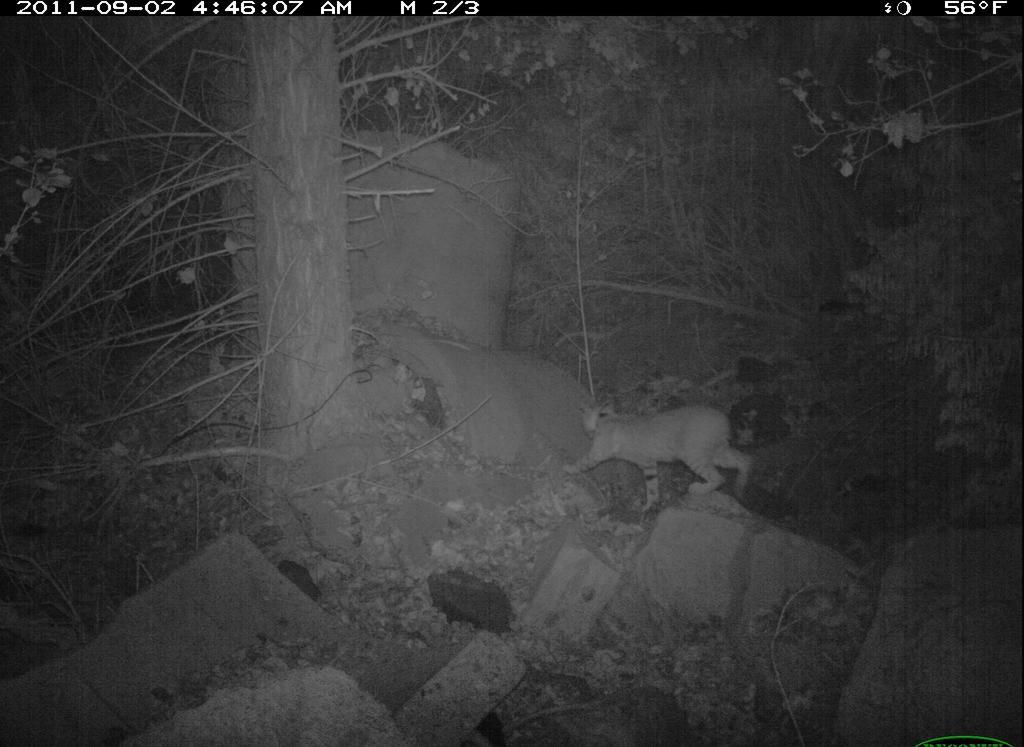bobcat: (550, 393, 767, 516)
